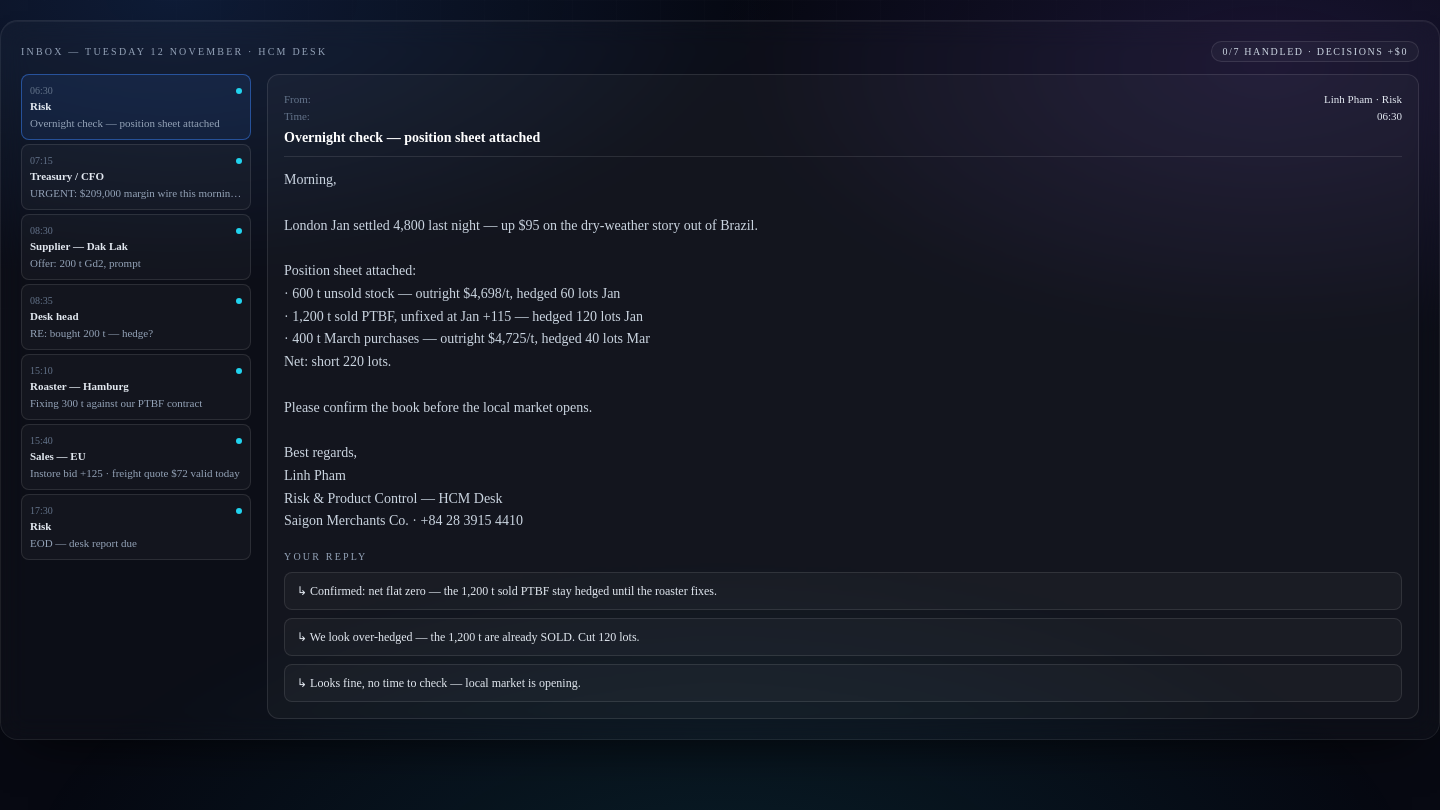
it: answered emails can be revisited from the inbox list
The image size is (1440, 810).
Click the button "Confirmed: net flat zero": [514, 591] box x1=284 y1=572 x2=1402 y2=610
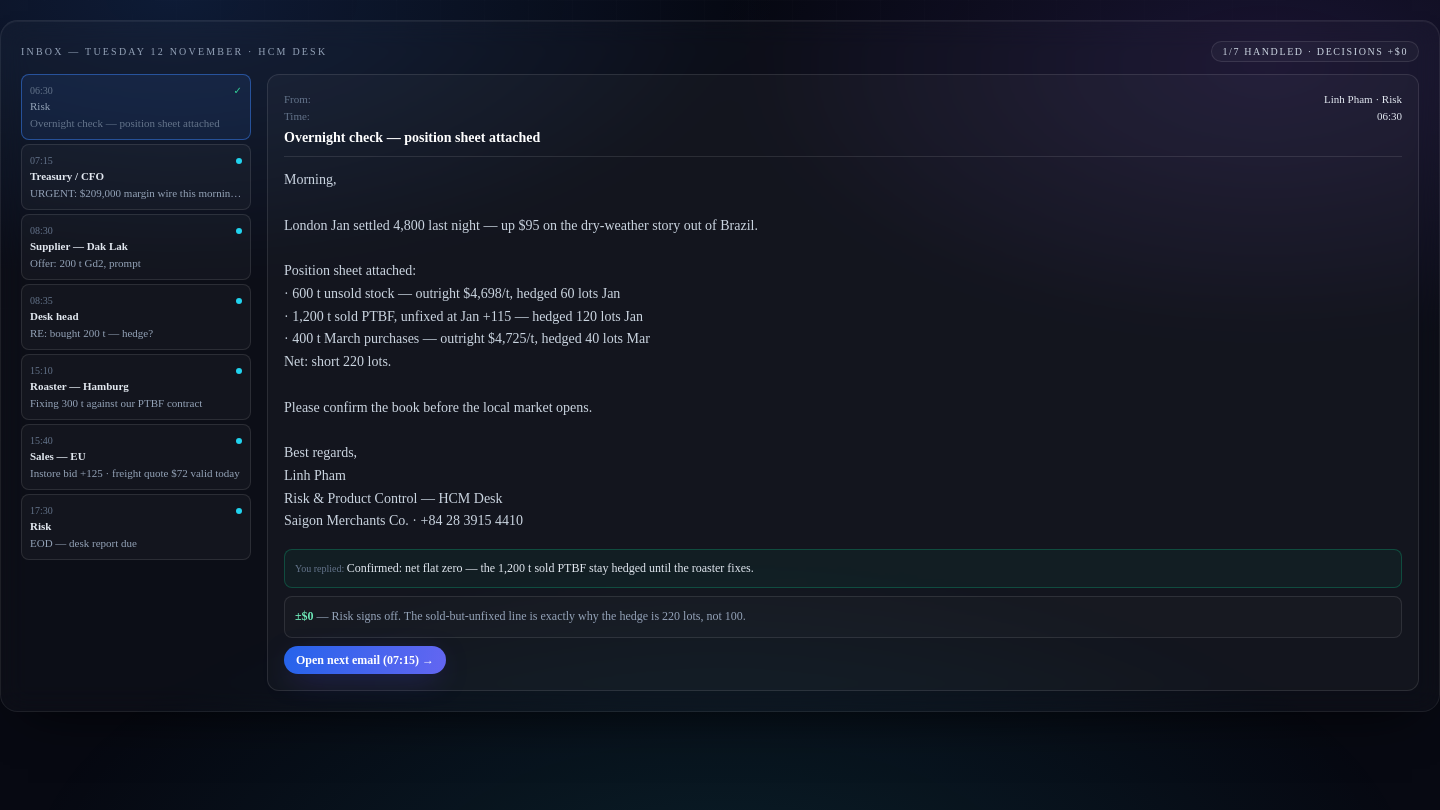
Click the button "Open next email (07:15) →": [365, 660] box x1=284 y1=646 x2=446 y2=674
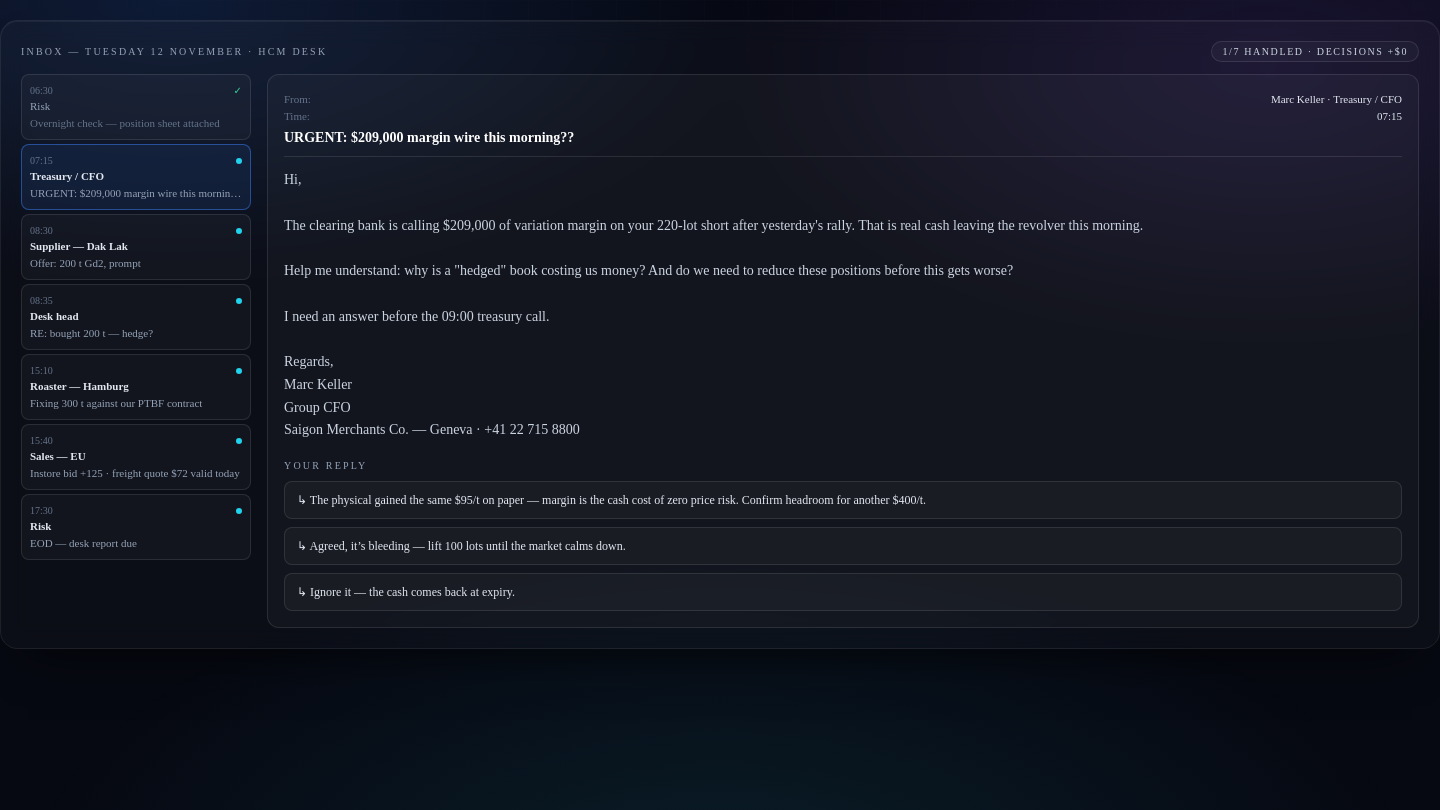
Expected: the text "URGENT" is shown, x1=30 y1=186 x2=246 y2=198
Click the button "06:30 ✓ Risk Overnight check — position sheet attached": [136, 107] box x1=21 y1=74 x2=251 y2=140
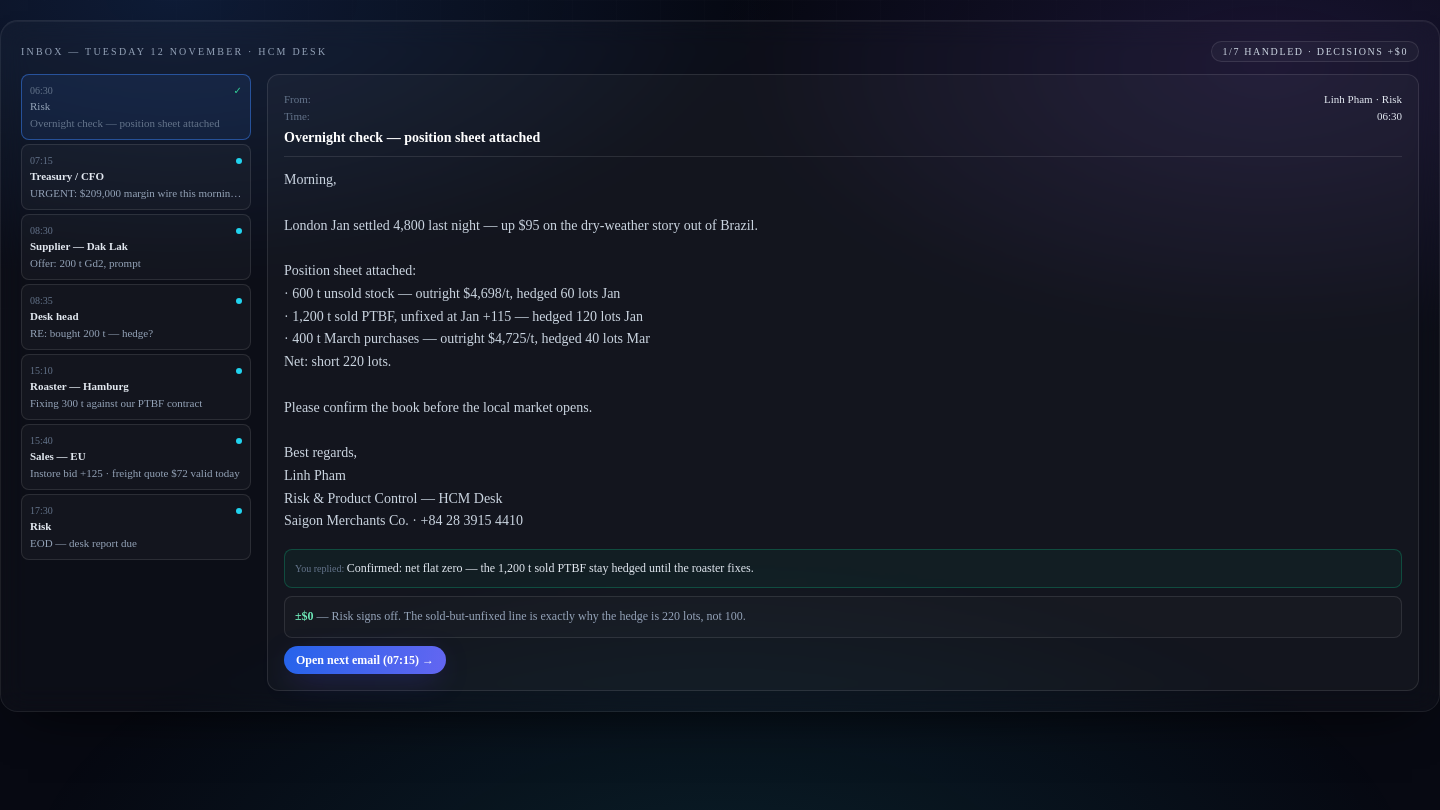
Expected: the text "You replied:" is shown, x1=295 y1=563 x2=347 y2=574
Expected: the text "Risk signs off" is shown, x1=332 y1=609 x2=746 y2=623
